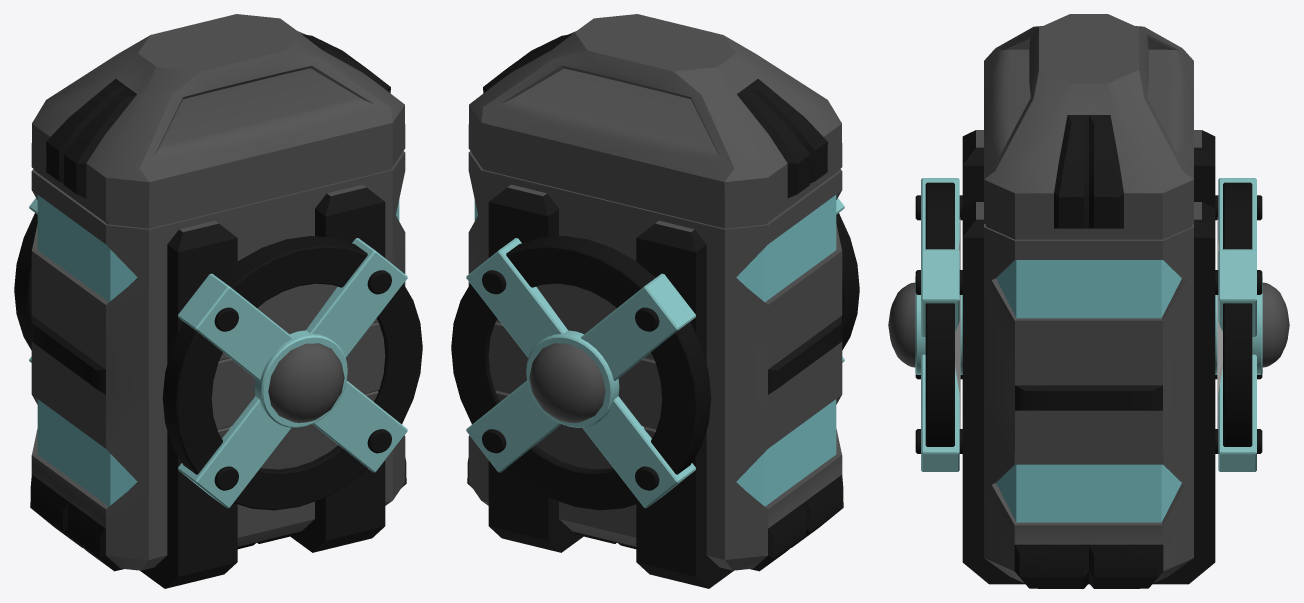
Rendered from Shield2.fbx.
The picture shows the model from 3 angles, left to right: view 1: azimuth 30°, elevation 25°; view 2: azimuth 150°, elevation 25°; view 3: azimuth 270°, elevation 25°; orthographic projection.
Visible parts, largest first — view 1: Medkit.002; view 2: Medkit.002; view 3: Medkit.002.
Part boxes in pixels (box(x1,y1,x2,y2)): Medkit.002: box(14, 14, 422, 588); Medkit.002: box(451, 14, 859, 588); Medkit.002: box(888, 14, 1289, 588).
Size of the model in its own units: 154 by 227 by 170.
